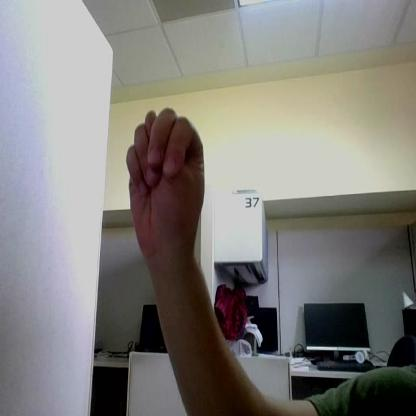N: (127, 108, 205, 253)
